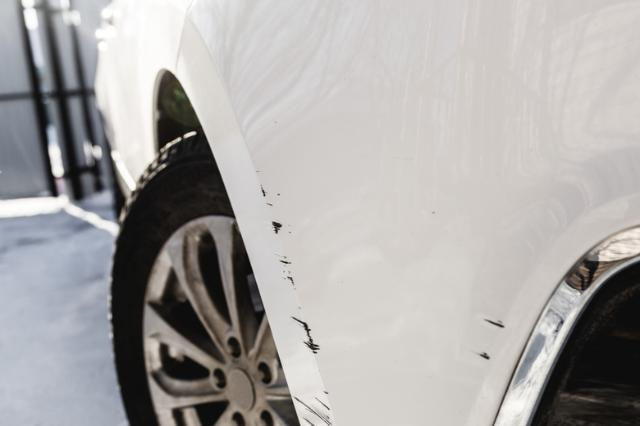Bumper: (247, 170, 518, 426)
